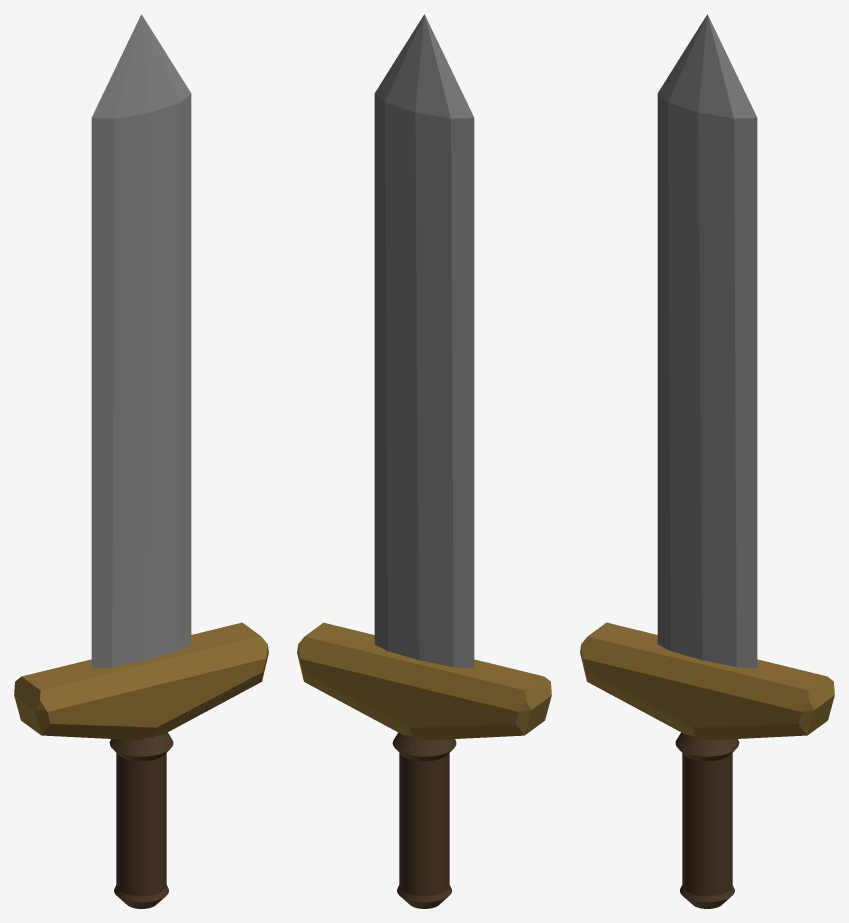
File: monkeSword.fbx
The picture shows the model from 3 angles, left to right: view 1: azimuth 30°, elevation 25°; view 2: azimuth 150°, elevation 25°; view 3: azimuth 330°, elevation 25°; orthographic projection.
Visible parts, largest first — view 1: Cube; view 2: Cube; view 3: Cube.
Part boxes in pixels (x1,y1,x2,y2): Cube: (14,14,268,908); Cube: (297,14,551,908); Cube: (580,14,834,908).
Size of the model in its own units: 97.93 by 355 by 23.11.
